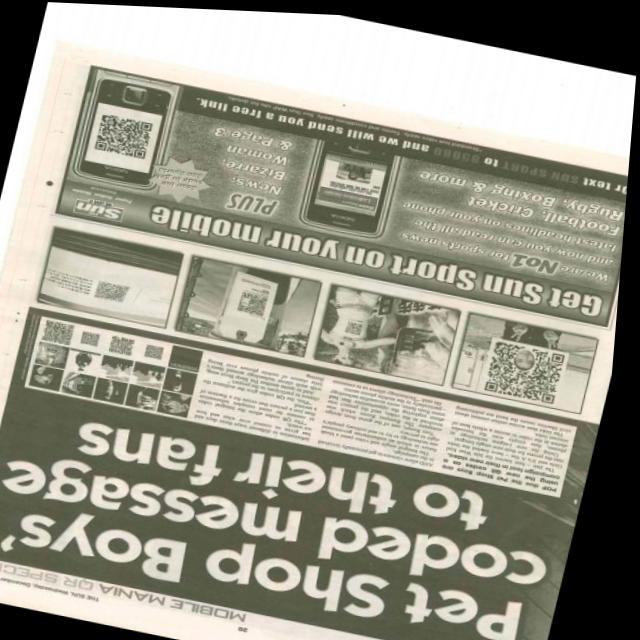qrcode: (491, 336, 572, 399), (97, 112, 156, 157), (48, 319, 80, 344), (243, 289, 274, 314), (99, 280, 134, 302), (116, 335, 141, 354), (151, 342, 171, 358), (87, 330, 107, 345), (351, 318, 369, 332)
